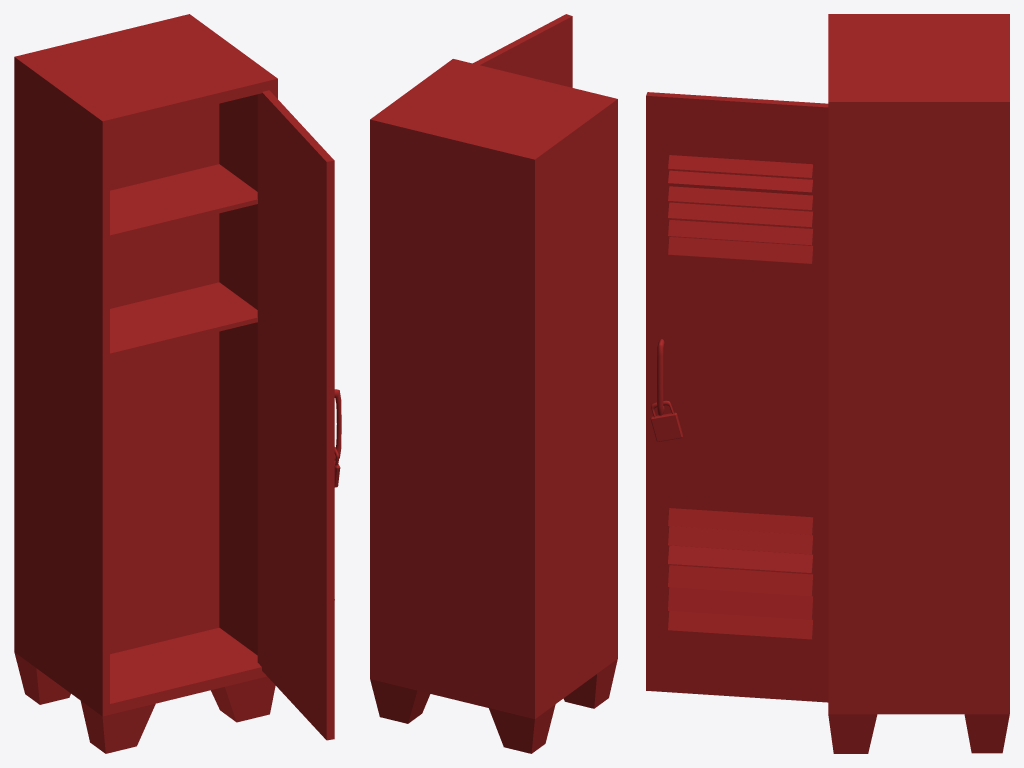
The model's file is Locker.fbx.
The picture shows the model from 3 angles, left to right: view 1: azimuth 30°, elevation 25°; view 2: azimuth 150°, elevation 25°; view 3: azimuth 270°, elevation 25°; orthographic projection. The views are drawn at different scales.
Visible parts, largest first — view 1: LockerBase, polySurface3; view 2: LockerBase, polySurface3; view 3: LockerBase, polySurface3, pCube3.
Boxes of the visible parts, x1=… form: LockerBase: x1=14, y1=14, x2=277, y2=753; polySurface3: x1=257, y1=90, x2=341, y2=740; LockerBase: x1=370, y1=59, x2=617, y2=753; polySurface3: x1=473, y1=14, x2=572, y2=87; LockerBase: x1=828, y1=14, x2=1009, y2=753; polySurface3: x1=646, y1=92, x2=828, y2=702; pCube3: x1=650, y1=412, x2=682, y2=441.
Size of the model in its own units: 63.79 by 221 by 111.
